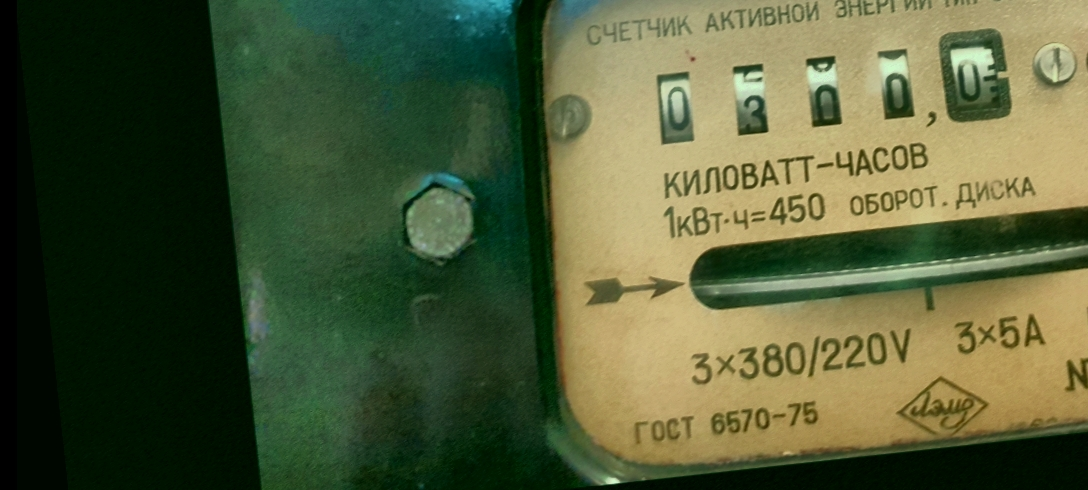0: (662, 80, 694, 134), (953, 54, 985, 106), (810, 78, 842, 129), (880, 69, 913, 118)
3: (738, 89, 770, 135)
screen: (632, 19, 1022, 165)
